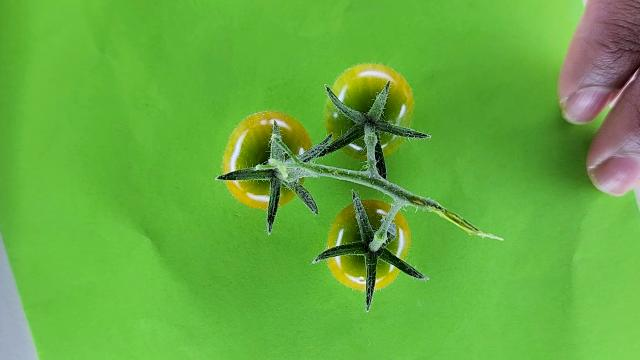Fully Grown: (222, 111, 314, 209), (323, 62, 414, 161), (325, 199, 411, 291)
